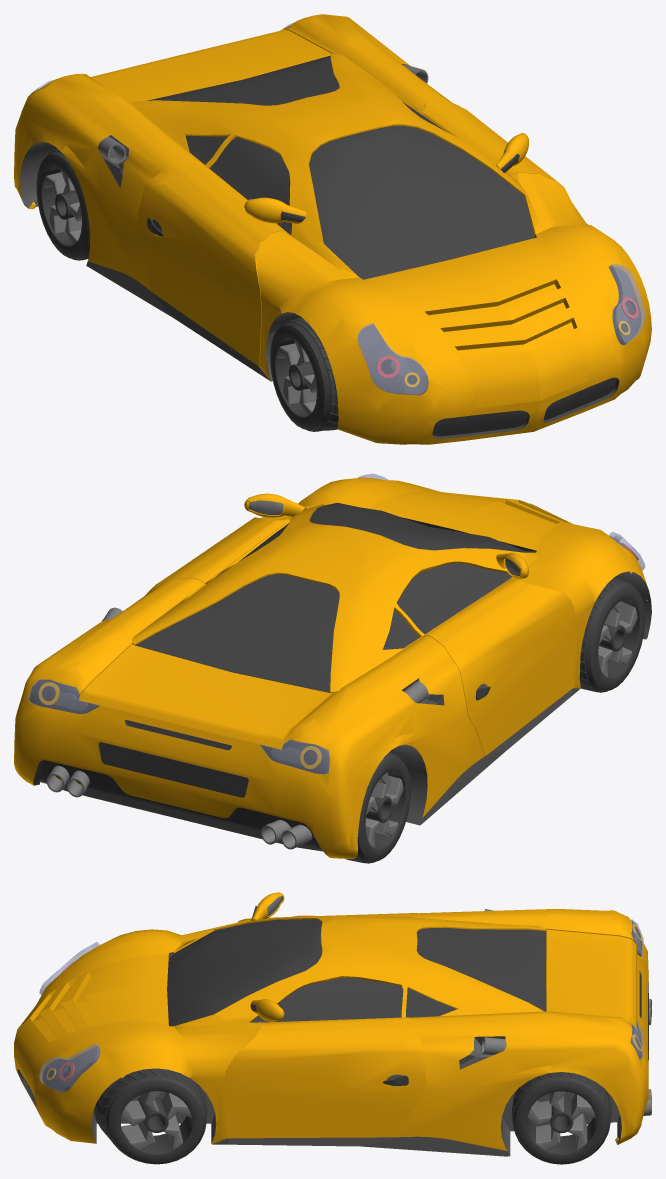
File: lv2_car_yellow.fbx
3 views of the same model, one above another, from view 1: azimuth 30°, elevation 25°; view 2: azimuth 150°, elevation 25°; view 3: azimuth 270°, elevation 25° (orthographic). The views are drawn at different scales.
Visible parts, largest first — view 1: lv2_car_yellow, lv2_car_wheel_3_yellow, lv2_car_wheel_4_yellow; view 2: lv2_car_yellow, lv2_car_wheel_3_yellow, lv2_car_wheel_4_yellow; view 3: lv2_car_yellow, lv2_car_wheel_1_yellow, lv2_car_wheel_2_yellow.
Boxes of the visible parts, left/top/right/bottom form: lv2_car_yellow: left=14, top=14, right=651, bottom=444; lv2_car_wheel_3_yellow: left=270, top=317, right=338, bottom=431; lv2_car_wheel_4_yellow: left=36, top=149, right=90, bottom=260; lv2_car_yellow: left=14, top=473, right=651, bottom=858; lv2_car_wheel_3_yellow: left=579, top=576, right=645, bottom=692; lv2_car_wheel_4_yellow: left=346, top=752, right=410, bottom=863; lv2_car_yellow: left=14, top=892, right=651, bottom=1156; lv2_car_wheel_1_yellow: left=94, top=1068, right=207, bottom=1164; lv2_car_wheel_2_yellow: left=511, top=1072, right=611, bottom=1164.
Size of the model in its own units: 384 by 207 by 724.
